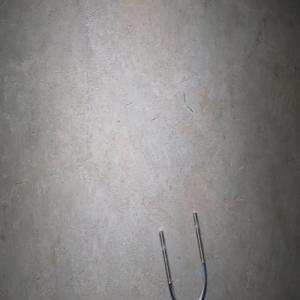ClampPart: (158, 211, 208, 300)
